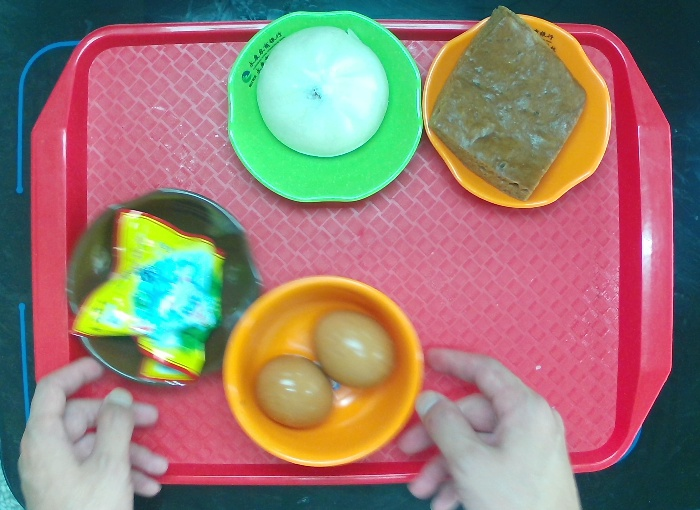YKMZ-Ju_Se_Ao_Bian_Wan: (411, 2, 629, 214)
YKMZ-Ju_Se_Yuan_Wan: (214, 268, 432, 480)
YKMZ-Ka_Fei_Ao_Bian_Wan: (58, 177, 276, 389)
YKMZ-Lv_Se_Ao_Bian_Wan: (227, 8, 445, 220)
